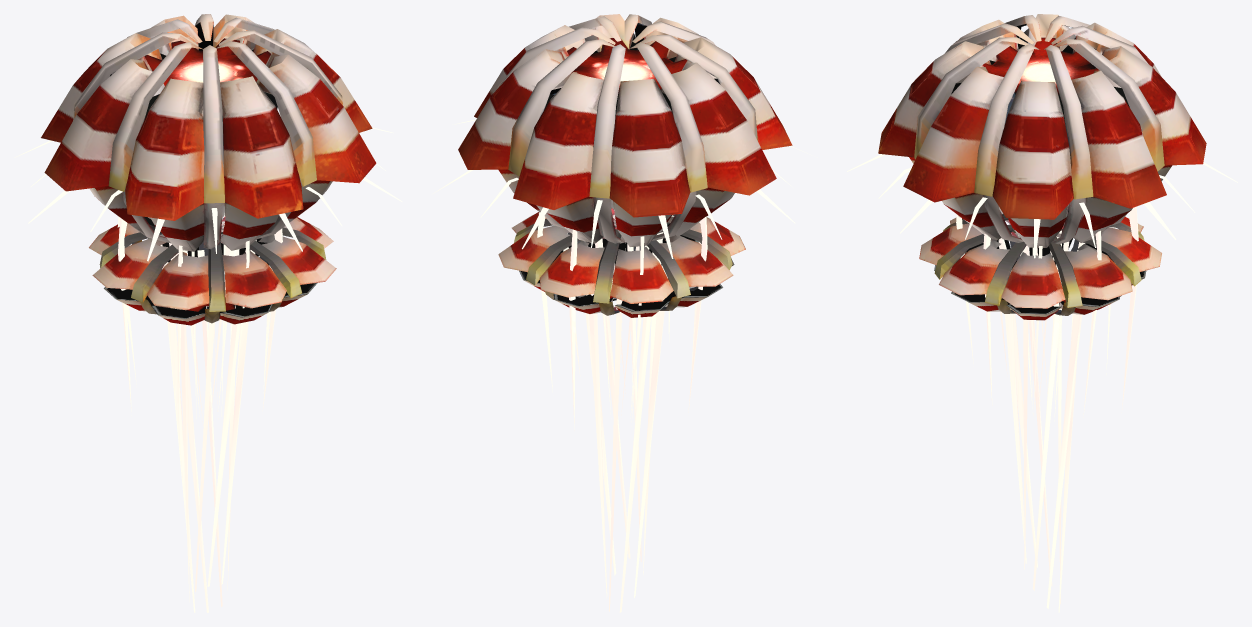
Rendered from curcubitor-boss.glb.
3 renders of one model, left to right at view 1: azimuth 30°, elevation 25°; view 2: azimuth 150°, elevation 25°; view 3: azimuth 270°, elevation 25°, orthographic. The views are drawn at different scales.
Visible parts, largest first — view 1: curcubitor_boss; view 2: curcubitor_boss; view 3: curcubitor_boss.
Boxes of the visible parts, x1,y1,x2,y2 form: curcubitor_boss: (14,14,402,612); curcubitor_boss: (433,14,817,612); curcubitor_boss: (847,14,1237,612).
Bounding box in the file's own units: 168 × 264 × 162.
Materials: 1 (1 with a texture image).
